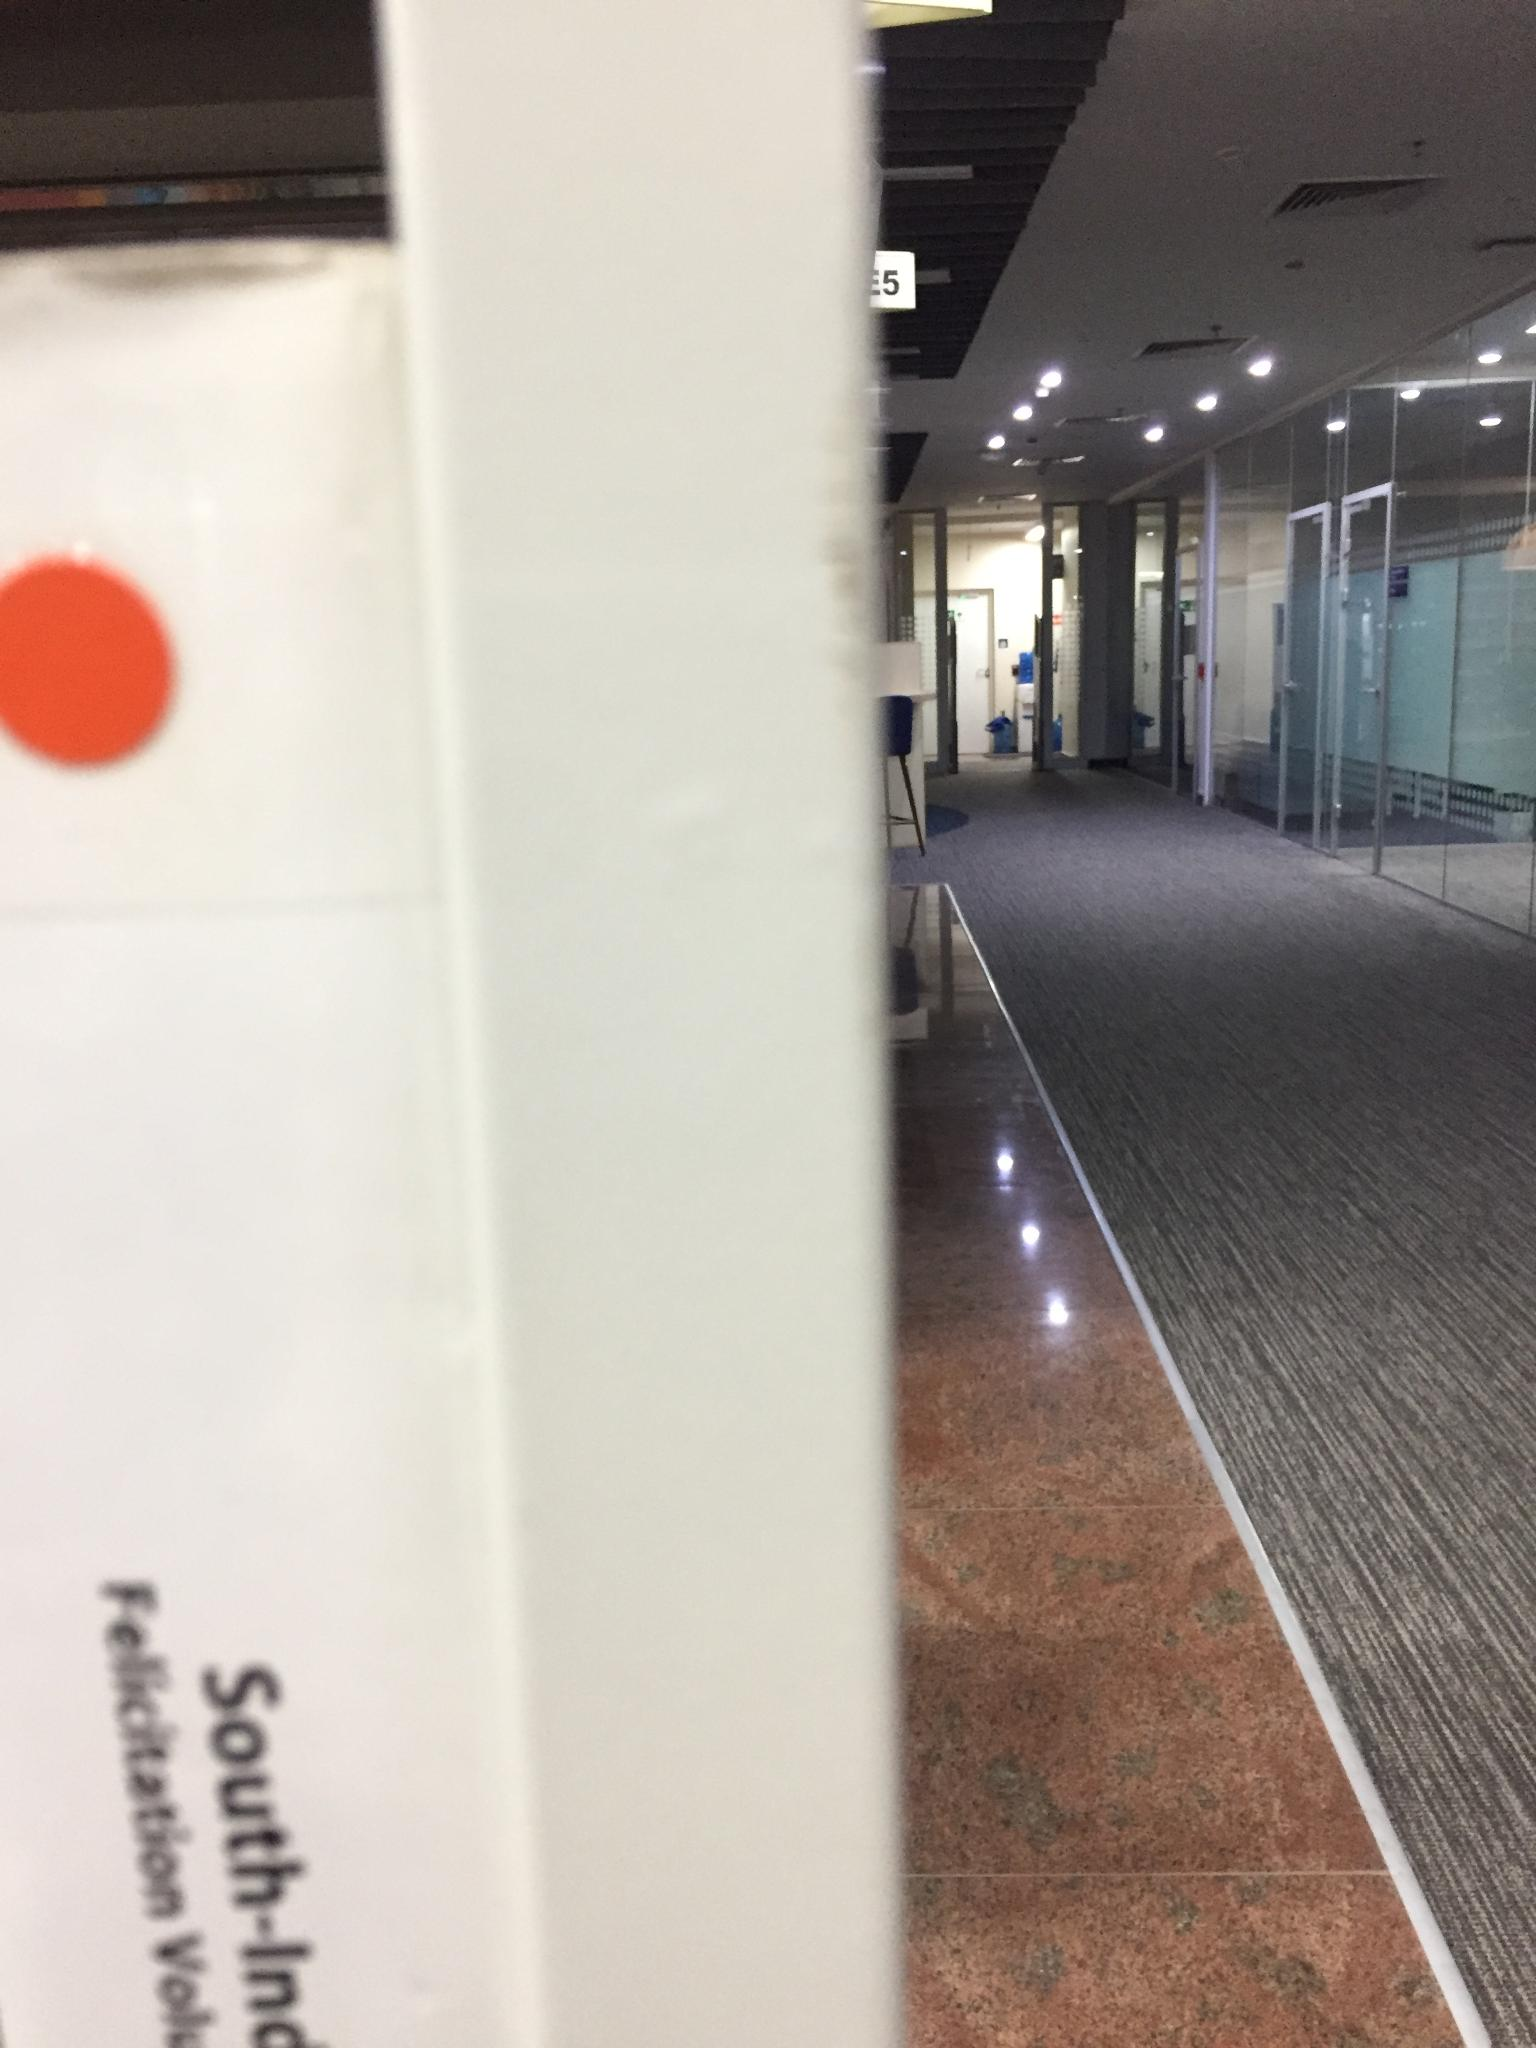chair: (850, 692, 937, 863)
